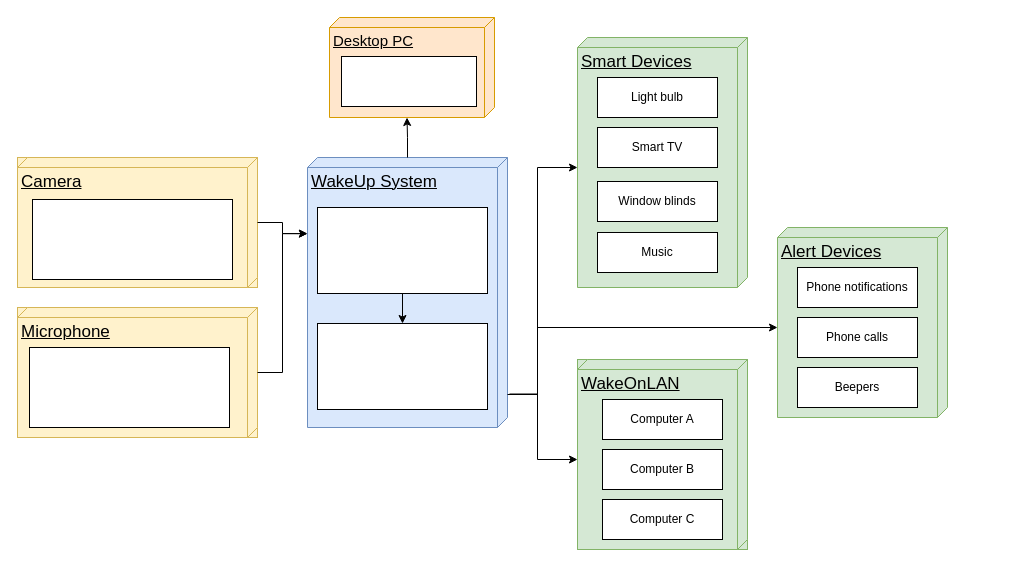
The diagram is 1015 pixels wide and 567 high, and some of its shapes have lost their labels. The shapes that lost their labels are listed below. From the top down, each one's centre as x and y in pixels, then its label:
At (408,81): "MFC Desktop Applications".
At (132,239): "Eyes Blinking Pose Detection Fall Detection".
At (402,250): "Processing the message".
At (402,366): "Executing the message".
At (129,387): "Sound Detection Speech to Text".
